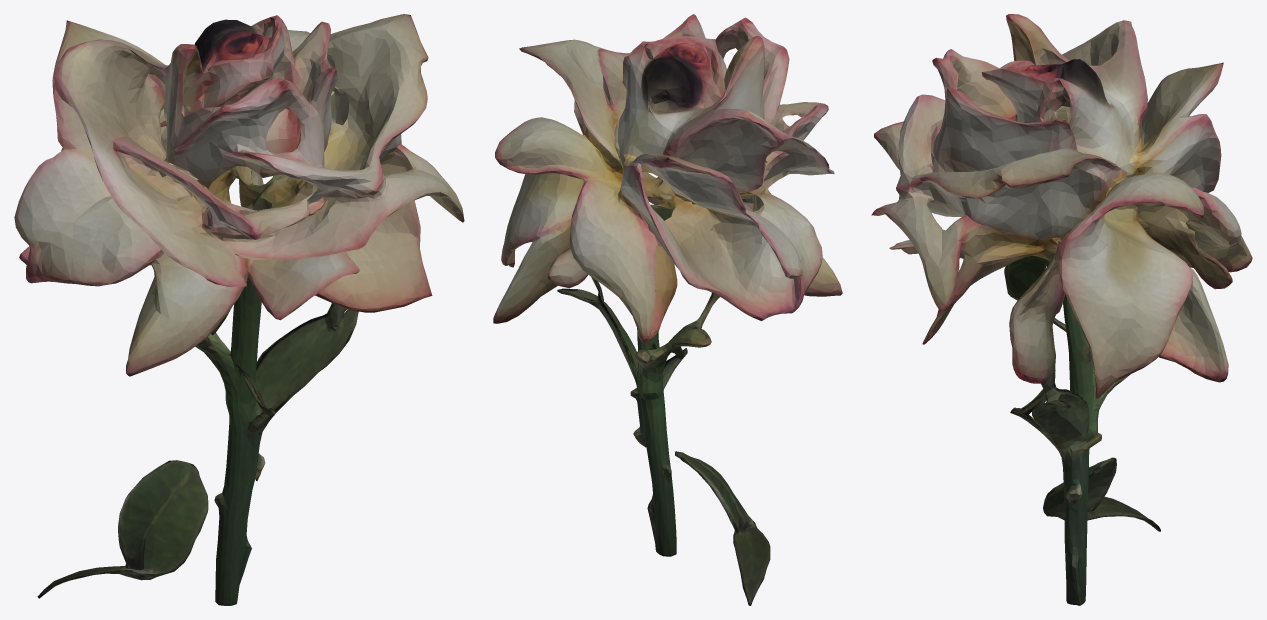
3 views of the same model, side by side, from view 1: azimuth 30°, elevation 25°; view 2: azimuth 150°, elevation 25°; view 3: azimuth 270°, elevation 25° (orthographic). The views are drawn at different scales.
Parts seen in each view (by area): view 1: world; view 2: world; view 3: world.
Boxes of the visible parts, x1,y1,x2,y2 form: world: (14,14,464,605); world: (493,14,842,605); world: (871,14,1252,605).
Size of the model in its own units: 0.5743 by 0.9116 by 0.5674.
1 material, 1 textured.
